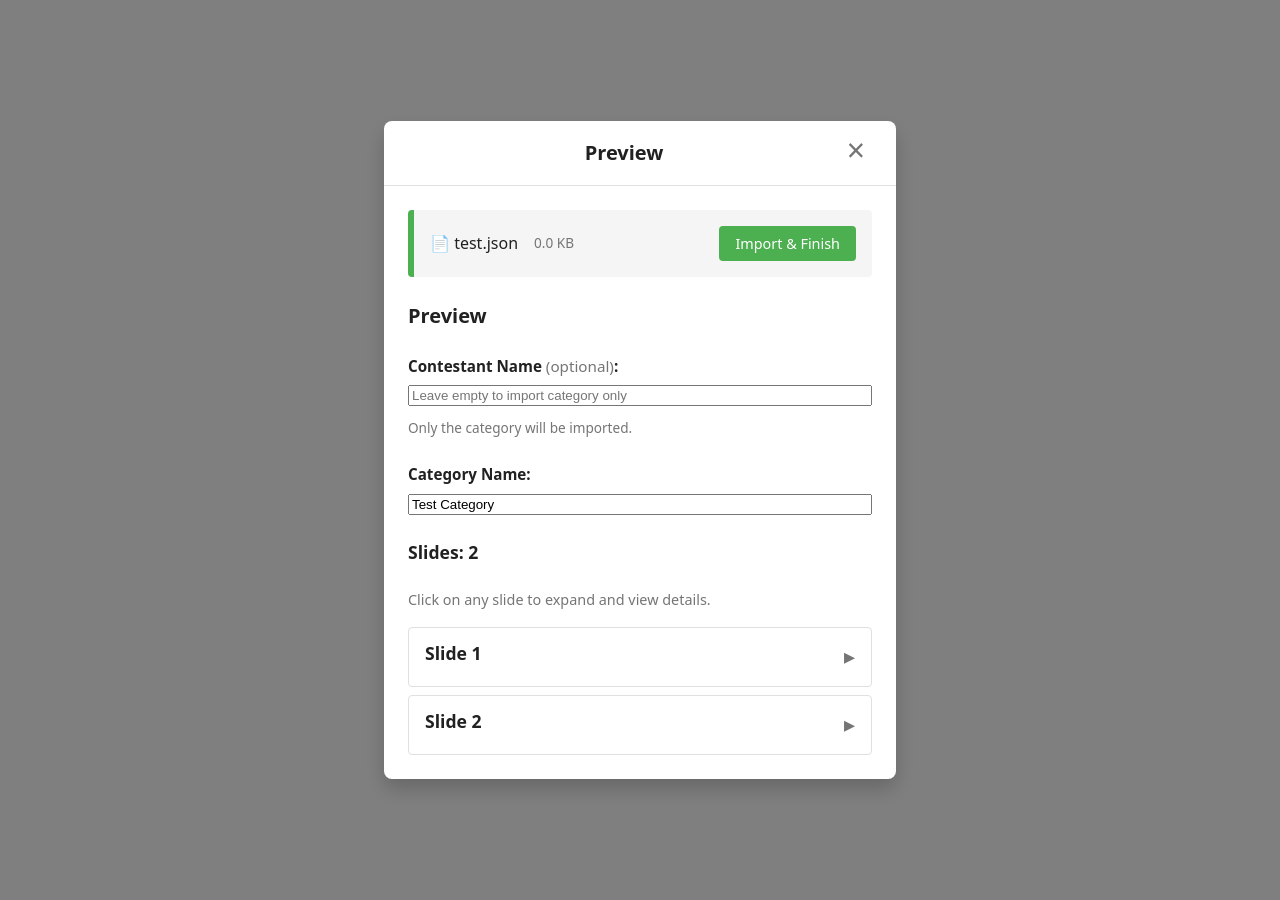
Scenario: IndividualPreview › Form Editing › should disable import button when category name is empty
Clear the field showing "Test Category". click: {"x": 640, "y": 504}
box: 408,494 -> 872,515
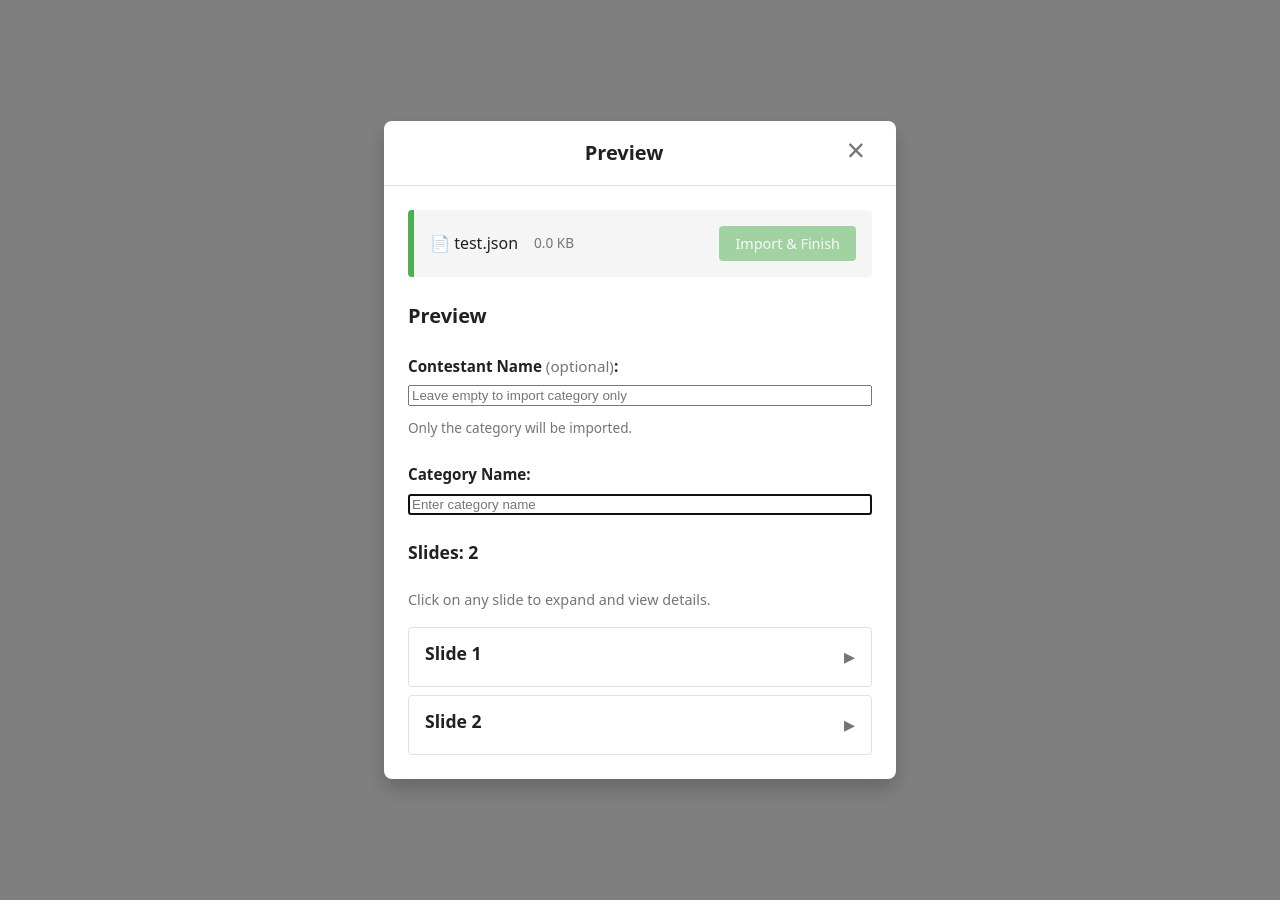
Now the button "Import & Finish" is disabled, box 719,226 -> 856,261
